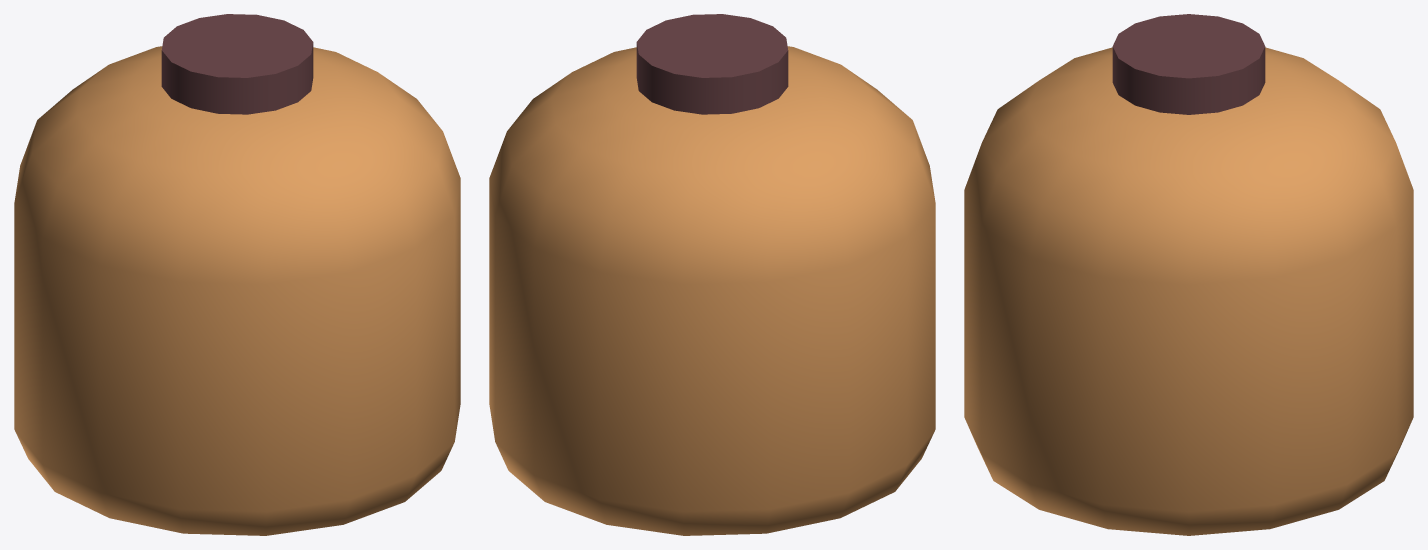
The model's file is SM_CollectibleUpgrade.fbx.
3 renders of one model, left to right at view 1: azimuth 30°, elevation 25°; view 2: azimuth 150°, elevation 25°; view 3: azimuth 270°, elevation 25°, orthographic.
Visible parts, largest first — view 1: Cylinder.001; view 2: Cylinder.001; view 3: Cylinder.001.
Boxes of the visible parts, bbox=[...] form: Cylinder.001: bbox=[14, 14, 460, 535]; Cylinder.001: bbox=[489, 14, 935, 535]; Cylinder.001: bbox=[964, 14, 1413, 535].
Bounding box in the file's own units: 0.8334 × 0.8457 × 0.8341.
